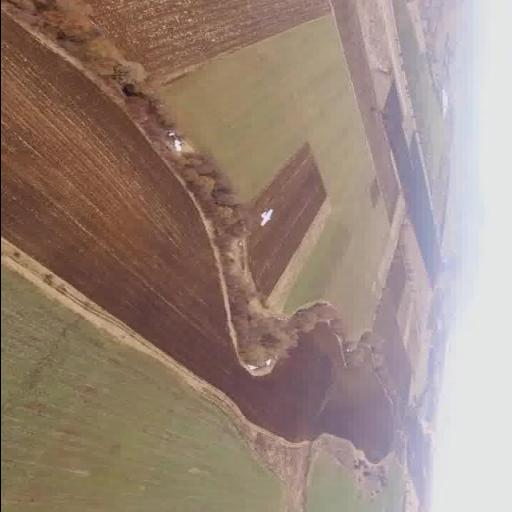uav: (250, 205, 276, 229)
